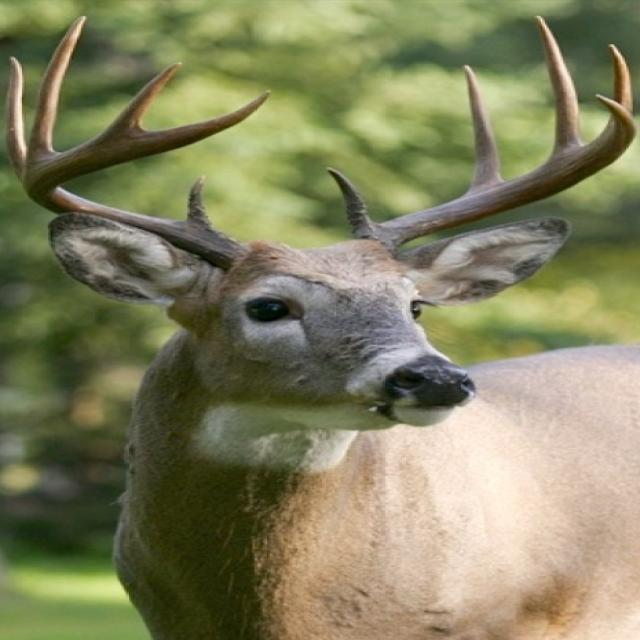L-F: (354, 94, 638, 260)
L-G1: (324, 165, 377, 232)
L-G2: (461, 64, 505, 189)
L-G3: (535, 15, 582, 155)
R-F: (20, 88, 273, 271)
R-G1: (186, 174, 213, 229)
R-G3: (27, 14, 87, 161)
R-G4: (104, 61, 184, 133)
